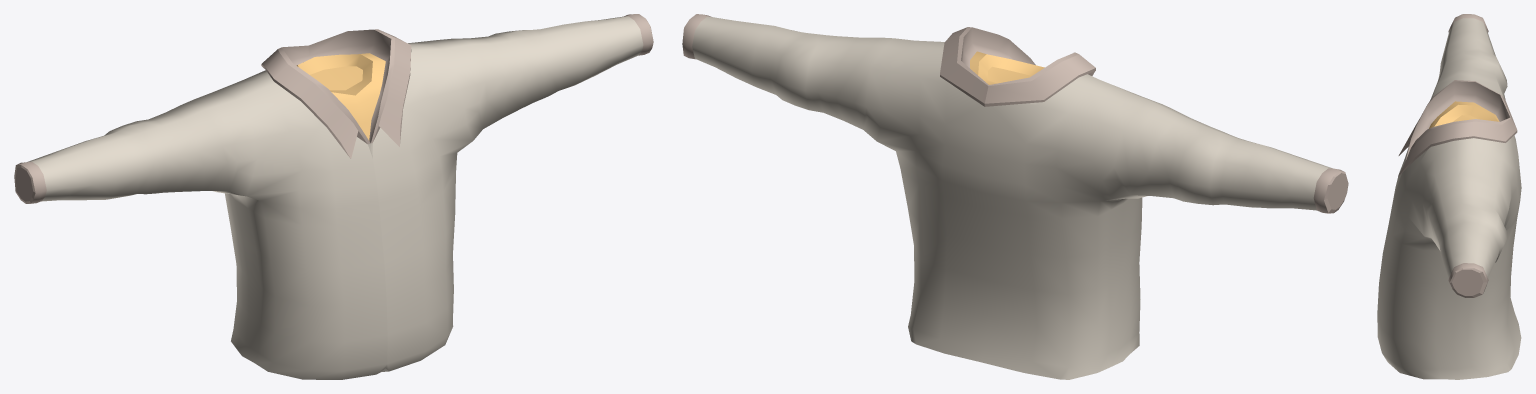
The model's file is Torso_11_01.fbx.
3 renders of one model, left to right at view 1: azimuth 30°, elevation 25°; view 2: azimuth 150°, elevation 25°; view 3: azimuth 270°, elevation 25°, orthographic. The views are drawn at different scales.
Parts seen in each view (by area): view 1: Torso_11_01; view 2: Torso_11_01; view 3: Torso_11_01.
Part boxes in pixels (x1,y1,x2,y2): Torso_11_01: [14, 14, 653, 379]; Torso_11_01: [682, 14, 1348, 379]; Torso_11_01: [1377, 14, 1521, 379].
Bounding box in the file's own units: 118 × 53.29 × 28.2.
